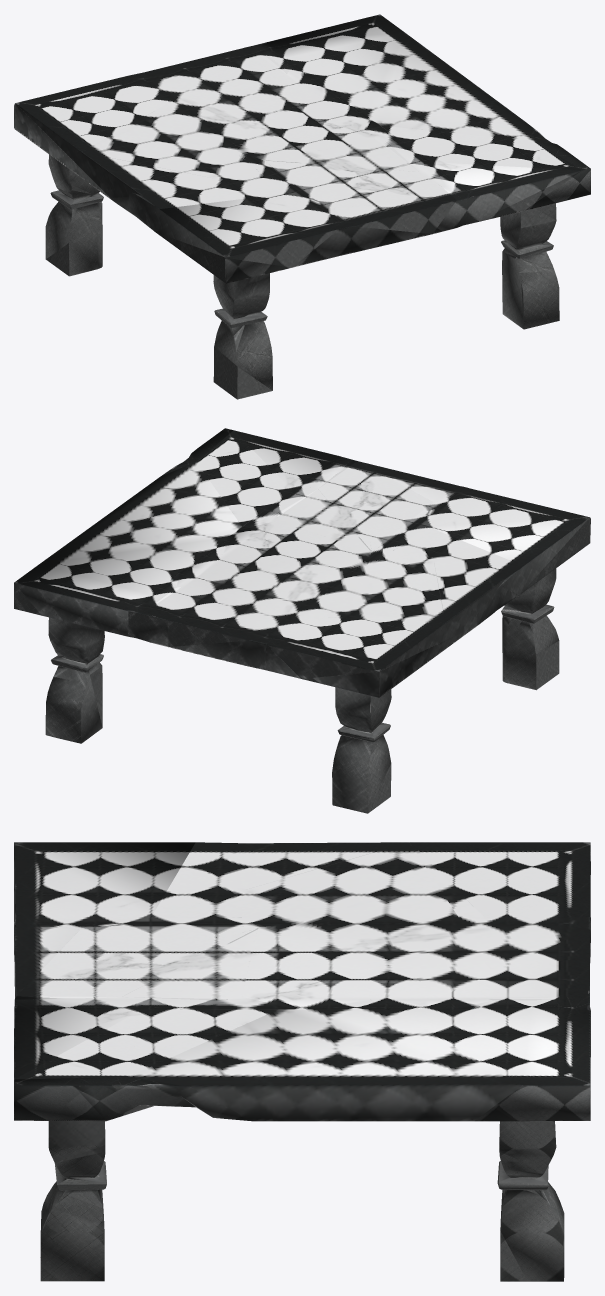
File: Table.fbx
3 renders of one model, top to bottom at view 1: azimuth 30°, elevation 25°; view 2: azimuth 150°, elevation 25°; view 3: azimuth 270°, elevation 25°, orthographic. The views are drawn at different scales.
Visible parts, largest first — view 1: Mesh_0; view 2: Mesh_0; view 3: Mesh_0.
Part boxes in pixels (<box>): Mesh_0: <box>14,14,590,399</box>; Mesh_0: <box>14,428,590,813</box>; Mesh_0: <box>14,842,590,1281</box>.
Bounding box in the file's own units: 190 × 76.78 × 190.
Materials: 1 (1 with a texture image).
